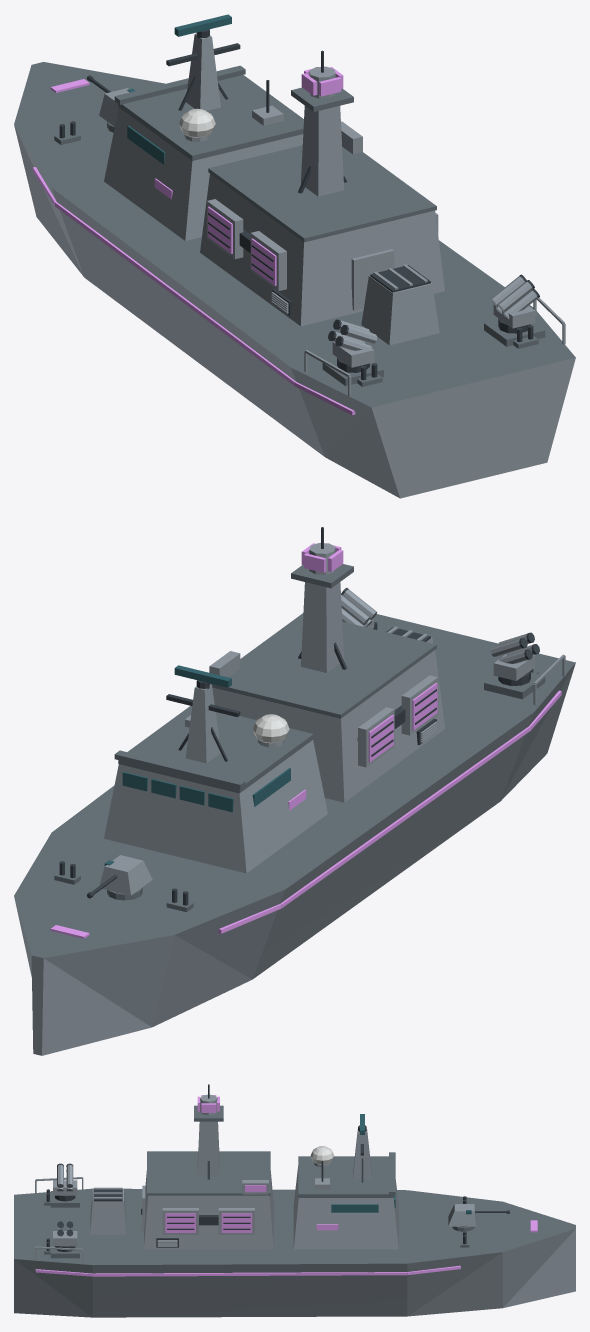
Rendered from ESC_EW_T2.fbx.
The picture shows the model from 3 angles, top to bottom: view 1: azimuth 30°, elevation 25°; view 2: azimuth 150°, elevation 25°; view 3: azimuth 270°, elevation 25°; orthographic projection. The views are drawn at different scales.
Parts seen in each view (by area): view 1: ContinuousHull.010, ElectronicWarfareEquipmentRoom.002, ElectronicsRoomRoof, Deckhouse.010, Roof.010, FunnelEnclosure.010, ESMMast.002, NavMast.006, RoleHullStripe-1_1, EWServiceHatch, BridgeBrow, JammerBackplate_P0 (+9 smaller); view 2: ContinuousHull.010, Deckhouse.010, ElectronicsRoomRoof, ElectronicWarfareEquipmentRoom.002, Roof.010, ESMMast.002, NavMast.006, RoleHullStripe-1_1, PrimaryGunCupola.010, BridgeBrow, JammerBackplate_P0, JammerBackplate_P1 (+6 smaller); view 3: ContinuousHull.010, Deckhouse.010, ElectronicWarfareEquipmentRoom.002, ElectronicsRoomRoof, Roof.010, FunnelEnclosure.010, RoleHullStripe1_1, ESMMast.002, NavMast.006, PrimaryGunCupola.010, JammerFace_S1, JammerFace_S0 (+7 smaller).
Boxes of the visible parts, x1,y1,x2,y2 form: ContinuousHull.010: (14,62,575,498); ElectronicWarfareEquipmentRoom.002: (200,174,444,326); ElectronicsRoomRoof: (208,145,436,242); Deckhouse.010: (104,107,303,240); Roof.010: (118,75,303,160); FunnelEnclosure.010: (361,275,439,345); ESMMast.002: (301,106,344,196); NavMast.006: (186,33,220,110); RoleHullStripe-1_1: (55,202,295,385); EWServiceHatch: (351,249,394,310); BridgeBrow: (114,65,245,104); JammerBackplate_P0: (250,231,286,290); ContinuousHull.010: (14,614,575,1055); Deckhouse.010: (104,740,327,873); ElectronicsRoomRoof: (210,613,436,718); ElectronicWarfareEquipmentRoom.002: (212,650,444,802); Roof.010: (118,706,313,793); ESMMast.002: (301,582,344,672); NavMast.006: (185,684,220,763); RoleHullStripe-1_1: (280,726,530,907); PrimaryGunCupola.010: (99,855,152,895); BridgeBrow: (114,750,245,789); JammerBackplate_P0: (401,675,438,735); JammerBackplate_P1: (358,707,394,767); ContinuousHull.010: (14,1188,575,1317); Deckhouse.010: (293,1166,398,1249); ElectronicWarfareEquipmentRoom.002: (144,1171,273,1249); ElectronicsRoomRoof: (147,1151,270,1195); Roof.010: (298,1156,393,1197); FunnelEnclosure.010: (90,1189,126,1234); RoleHullStripe1_1: (92,1272,407,1276); ESMMast.002: (197,1121,219,1176); NavMast.006: (353,1129,371,1178); PrimaryGunCupola.010: (448,1204,476,1226); JammerFace_S1: (221,1213,252,1232); JammerFace_S0: (165,1213,195,1232).
Bounding box in the file's own units: 290 × 363 × 900.
